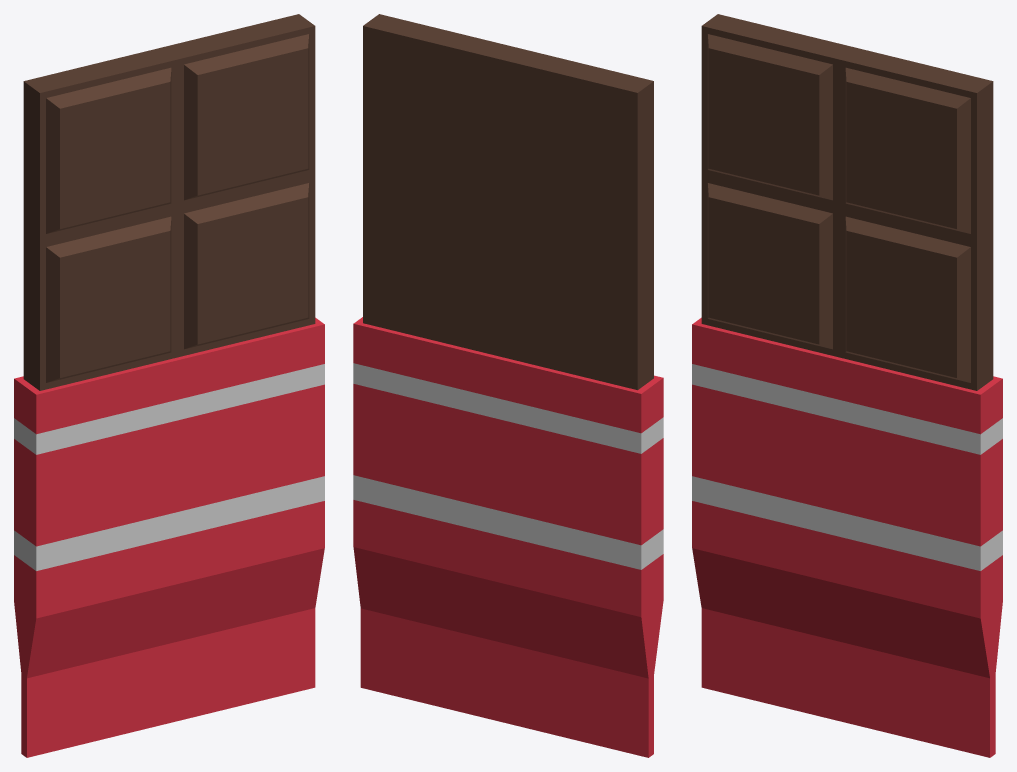
Rendered from Chocolate_B.glb.
3 renders of one model, left to right at view 1: azimuth 30°, elevation 25°; view 2: azimuth 150°, elevation 25°; view 3: azimuth 330°, elevation 25°, orthographic.
Parts seen in each view (by area): view 1: Chocolate_B; view 2: Chocolate_B; view 3: Chocolate_B.
Part boxes in pixels (left/top/right/bottom): Chocolate_B: left=14, top=14, right=324, bottom=757; Chocolate_B: left=353, top=14, right=663, bottom=757; Chocolate_B: left=692, top=14, right=1002, bottom=757.
Size of the model in its own units: 0.0637 by 0.1409 by 0.00981.
Materials: 1 (1 with a texture image).
